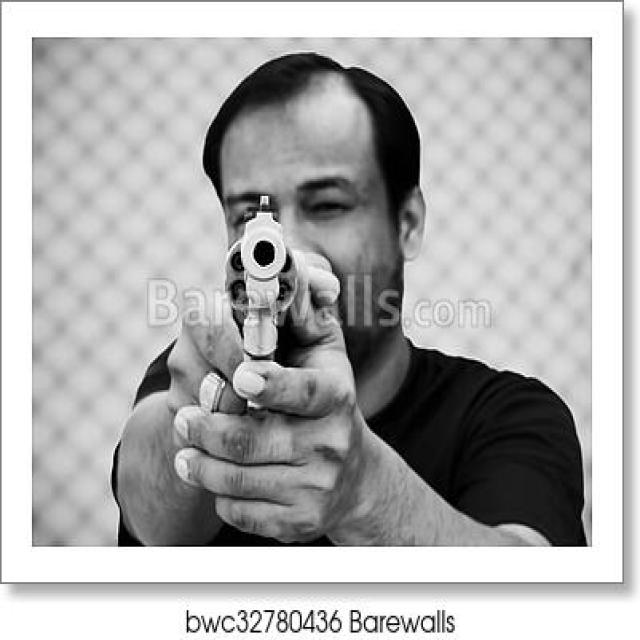HandGun: (225, 194, 297, 362)
